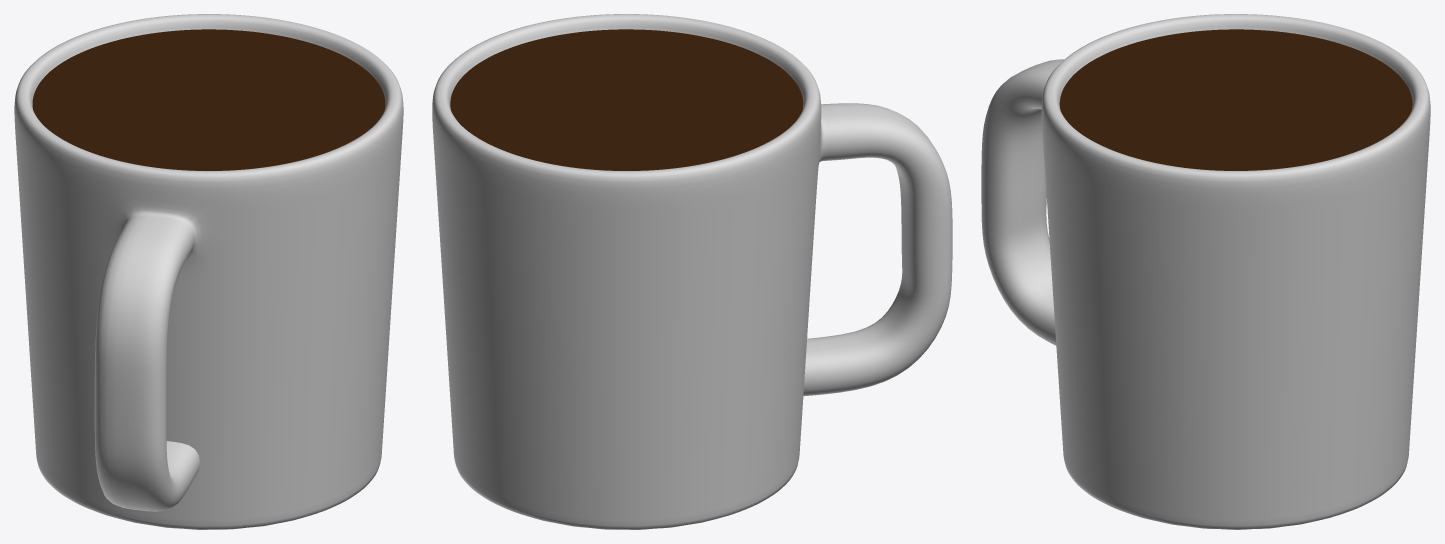
The model's file is Coffee.fbx.
The picture shows the model from 3 angles, left to right: view 1: azimuth 30°, elevation 25°; view 2: azimuth 150°, elevation 25°; view 3: azimuth 270°, elevation 25°; orthographic projection.
Visible parts, largest first — view 1: Cilindro, Cilindro.001; view 2: Cilindro, Cilindro.001; view 3: Cilindro, Cilindro.001.
Boxes of the visible parts, x1=… form: Cilindro: x1=14, y1=14, x2=403, y2=529; Cilindro.001: x1=32, y1=29, x2=385, y2=170; Cilindro: x1=432, y1=14, x2=952, y2=529; Cilindro.001: x1=450, y1=29, x2=803, y2=170; Cilindro: x1=981, y1=14, x2=1430, y2=529; Cilindro.001: x1=1059, y1=29, x2=1412, y2=170.
Bounding box in the file's own units: 257 × 234 × 259.
